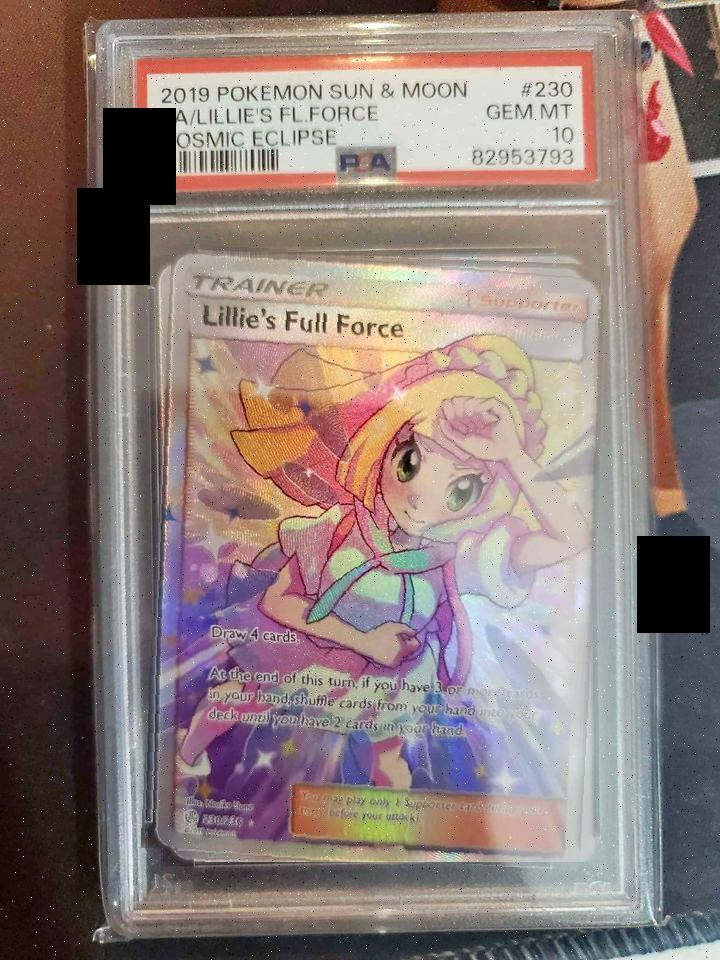card: (154, 253, 601, 862)
